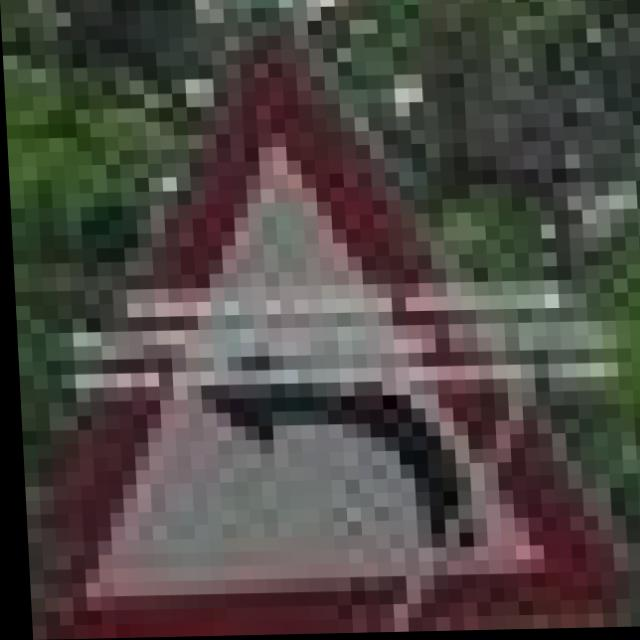LEFT_HAND_CURVE: (2, 45, 610, 640)
